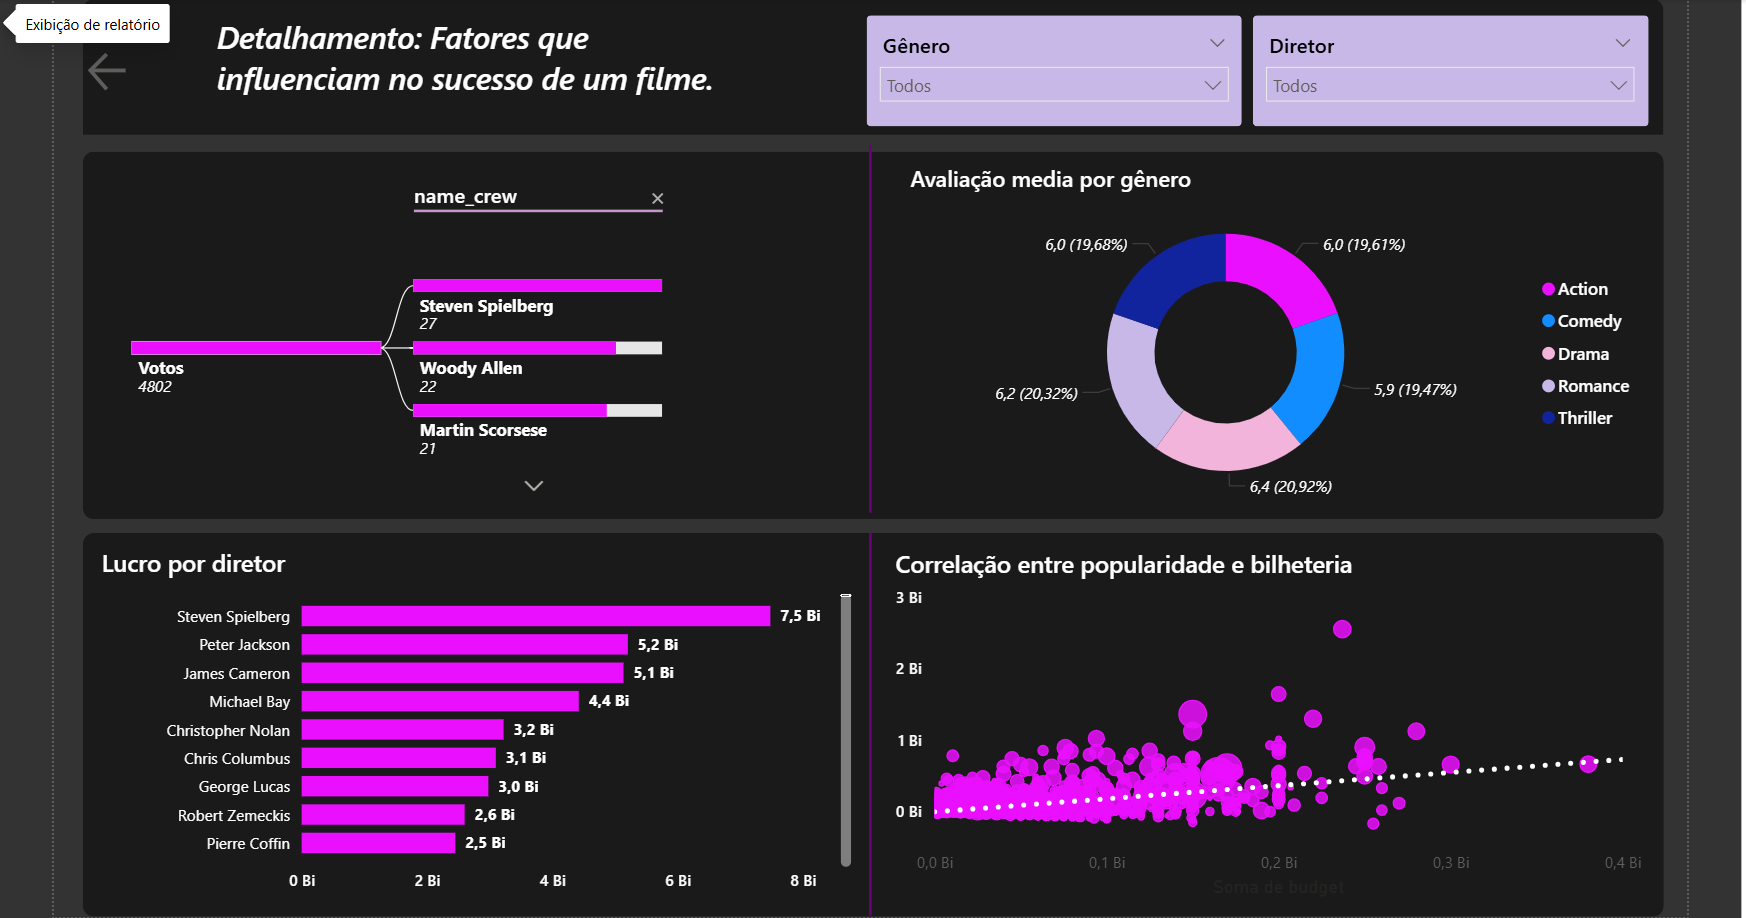

The page's visual inventory and layout, read from the dashboard file:
{"tool":"powerbi","page":{"name":" Fatores","canvas":[1280,720],"ordinal":1},"visuals":[{"type":"shape","box":[22.6,0,1239.1,106.8],"z":0},{"type":"shape","box":[939.5,12.8,310.5,87.2],"z":1000},{"type":"shape","box":[637.2,12.8,294.2,87.2],"z":2000},{"type":"shape","box":[22.1,119.8,1239.5,288.4],"z":3000},{"type":"shape","box":[22.1,418.6,1239.5,301.2],"z":4000},{"type":"barChart","title":"Lucro por diretor","fields":{"Category":["public dim_director.name_crew"],"Y":["public fact_director.Lucro total"]},"box":[32.6,429.1,597.7,280.2],"z":5000},{"type":"donutChart","title":"Avaliação media por gênero","fields":{"Series":["public dim_genresmv.genre_name"],"Y":["public fact_director.Media avaliacao"]},"box":[666.3,129.1,582.6,273.3],"z":6000},{"type":"scatterChart","title":"Correlação entre popularidade e bilheteria","fields":{"X":["Sum(public fact_director.budget)"],"Size":["Sum(public fact_director.popularity)"],"Category":["public fact_director.original_title"],"Y":["public fact_director.Lucro total"]},"box":[654.7,430.2,595.4,279.1],"z":7000},{"type":"decompositionTreeVisual","fields":{"ExplainBy":["public dim_director.name_crew"],"Analyze":["CountNonNull(public fact_director.vote_average)"]},"box":[31.4,130.2,608.1,273.3],"z":8000},{"type":"shape","box":[489.5,115.1,300,288.4],"z":9000},{"type":"shape","box":[489.5,418.6,300,300],"z":10000},{"type":"slicer","fields":{"Values":["public dim_director.name_crew"]},"box":[939.5,19.8,309.3,80.2],"z":11000},{"type":"slicer","fields":{"Values":["public dim_genresmv.genre_name"]},"box":[637.2,19.8,294.2,74.4],"z":12000},{"type":"textbox","box":[122.1,9.3,402.3,94.2],"z":13000},{"type":"actionButton","box":[40.7,33.7,66.3,39.5],"z":14000}]}

Visuals, with their boxes on the page's 1280x720 design canvas (x1, y1, x2, y2). These are canvas units, not pixel positions in the 1746x918 screenshot, which may show the page scaled, cropped or inside an application window:
shape: 23:0:1262:107
shape: 940:13:1250:100
shape: 637:13:931:100
shape: 22:120:1262:408
shape: 22:419:1262:720
"Lucro por diretor" barChart: 33:429:630:709
"Avaliação media por gênero" donutChart: 666:129:1249:402
"Correlação entre popularidade e bilheteria" scatterChart: 655:430:1250:709
decompositionTreeVisual - public dim_director.name_crew x CountNonNull(public fact_director.vote_average): 31:130:640:404
shape: 490:115:790:404
shape: 490:419:790:719
slicer - public dim_director.name_crew: 940:20:1249:100
slicer - public dim_genresmv.genre_name: 637:20:931:94
textbox: 122:9:524:104
actionButton: 41:34:107:73
